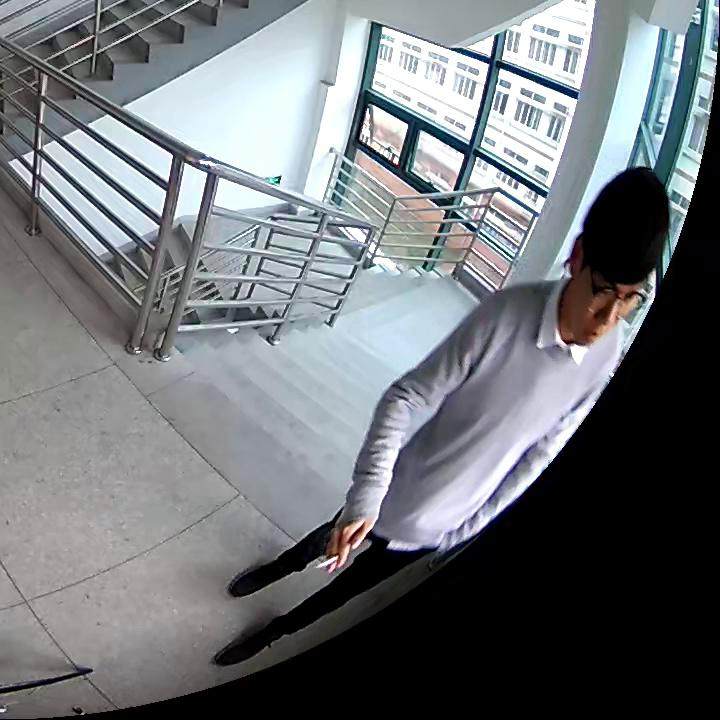handsmoke: (314, 517, 383, 574)
mouthwithoutsmoke: (564, 165, 670, 349)
